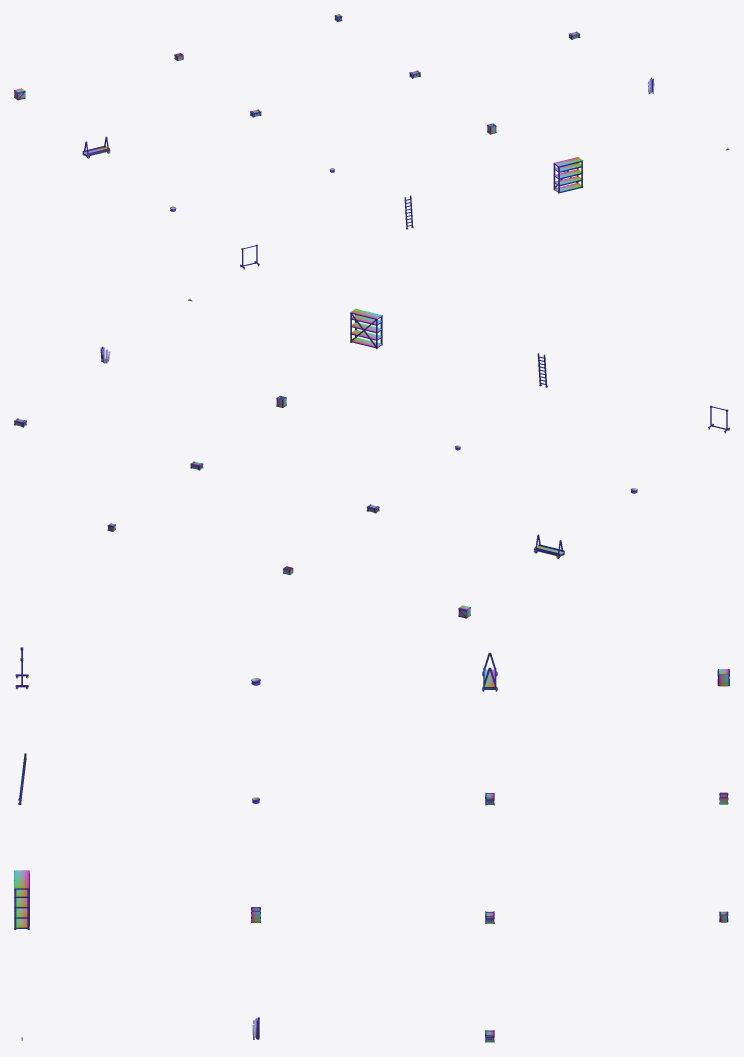
Rendered from StageShift_Backstage.fbx.
The picture shows the model from 3 angles, top to bottom: view 1: azimuth 30°, elevation 25°; view 2: azimuth 150°, elevation 25°; view 3: azimuth 270°, elevation 25°; orthographic projection. The views are drawn at different scales.
Parts seen in each view (by area): view 1: Backstage_Storage_Shelf; view 2: Backstage_Storage_Shelf; view 3: Backstage_Storage_Shelf.
Part boxes in pixels (<box>): Backstage_Storage_Shelf: <box>553,157,583,193</box>; Backstage_Storage_Shelf: <box>350,308,382,349</box>; Backstage_Storage_Shelf: <box>14,870,29,929</box>.
Bounding box in the file's own units: 7449 × 441 × 6122.
